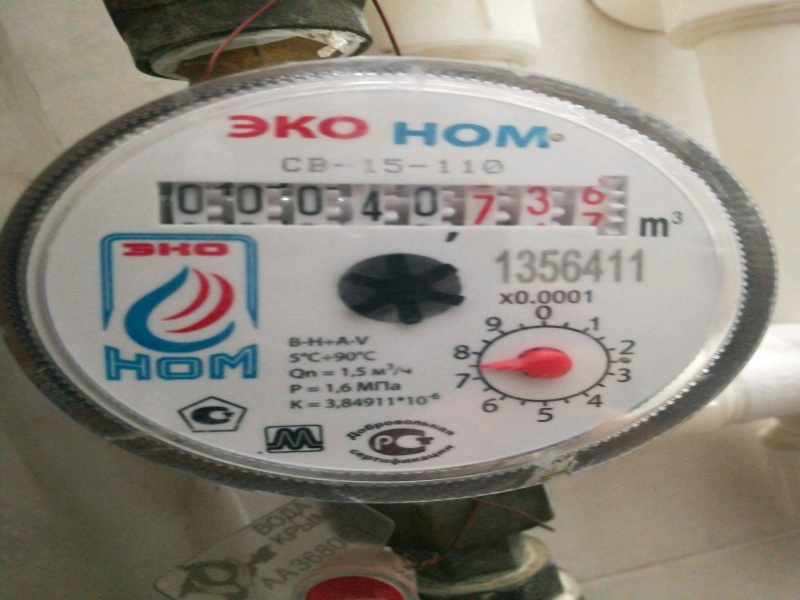meter: (162, 185, 616, 235)
